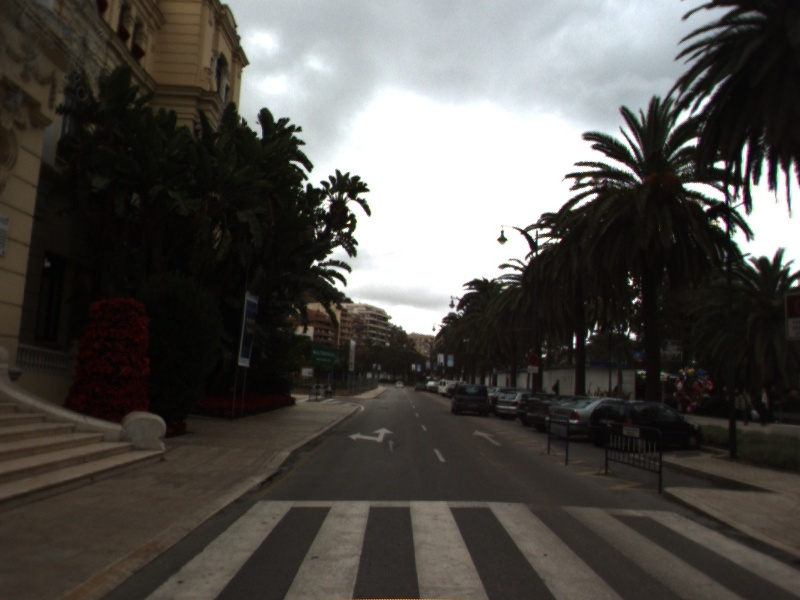STRAIGHT: (471, 428, 504, 447)
STRAIGHT_LEFT: (346, 425, 396, 445)
